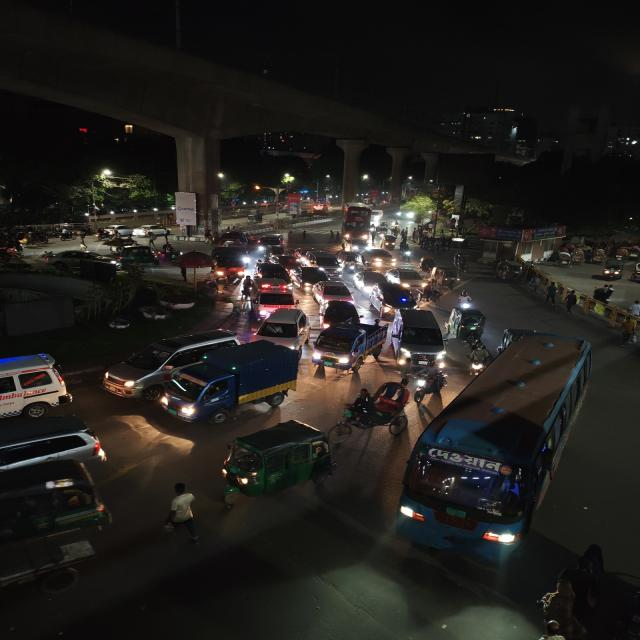bus: (396, 327, 602, 554), (0, 350, 73, 422), (341, 207, 372, 245)
car: (96, 326, 238, 398), (0, 350, 72, 422), (391, 308, 448, 366), (244, 264, 300, 313), (249, 307, 312, 348), (370, 282, 419, 312), (319, 300, 362, 328), (310, 281, 356, 305), (114, 245, 162, 268), (387, 266, 428, 288), (295, 266, 329, 290), (361, 248, 396, 271), (313, 254, 344, 276), (254, 236, 283, 253), (110, 225, 138, 238), (142, 224, 172, 236), (135, 226, 152, 238)
cng: (218, 418, 337, 498), (450, 306, 488, 342), (435, 266, 462, 290), (601, 256, 624, 278)
motorcycle: (540, 541, 640, 640), (411, 363, 450, 403), (466, 340, 490, 376), (455, 289, 476, 309), (160, 243, 178, 261)
pedestrian: (160, 479, 205, 547), (562, 288, 580, 316), (544, 281, 559, 306)
pickup_van: (311, 321, 385, 379), (210, 247, 250, 279)
rickshaw: (338, 380, 412, 438), (630, 258, 640, 284)
truck: (151, 340, 303, 426)
